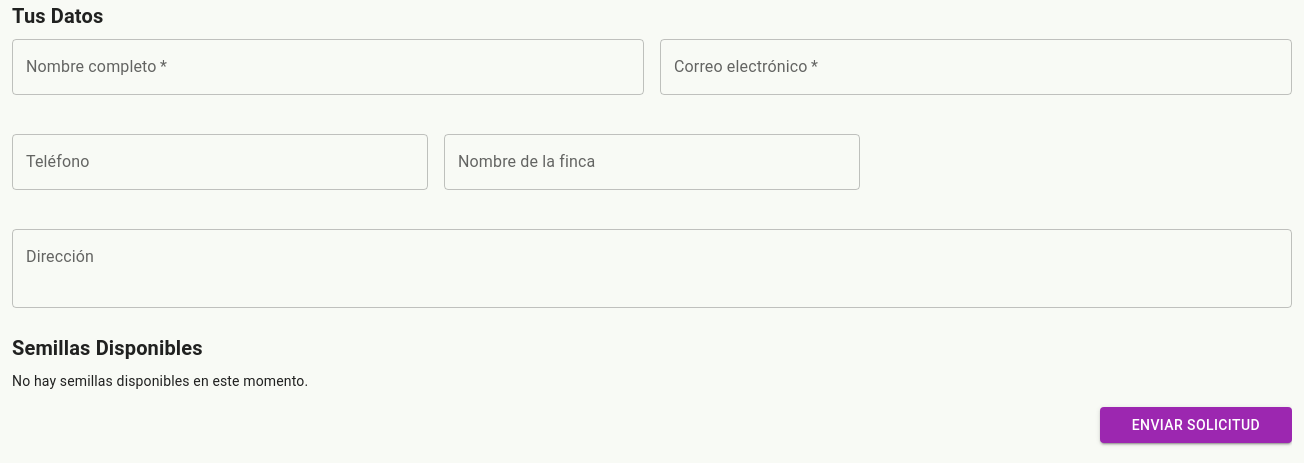
it: SolicitarForm — Línea Gráfica Pitahaya › inline validation › shows error on nombre on blur when too short
This screenshot has width=1304, height=463.
Click the field labelled "Nombre completo *" at (328, 67), box x1=12 y1=39 x2=644 y2=95
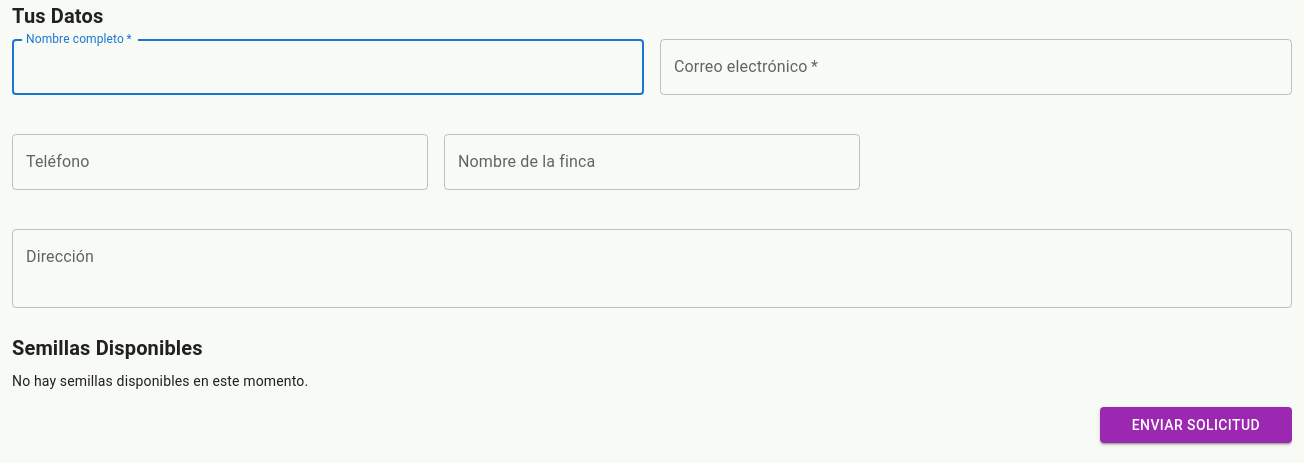
Type keys "A"
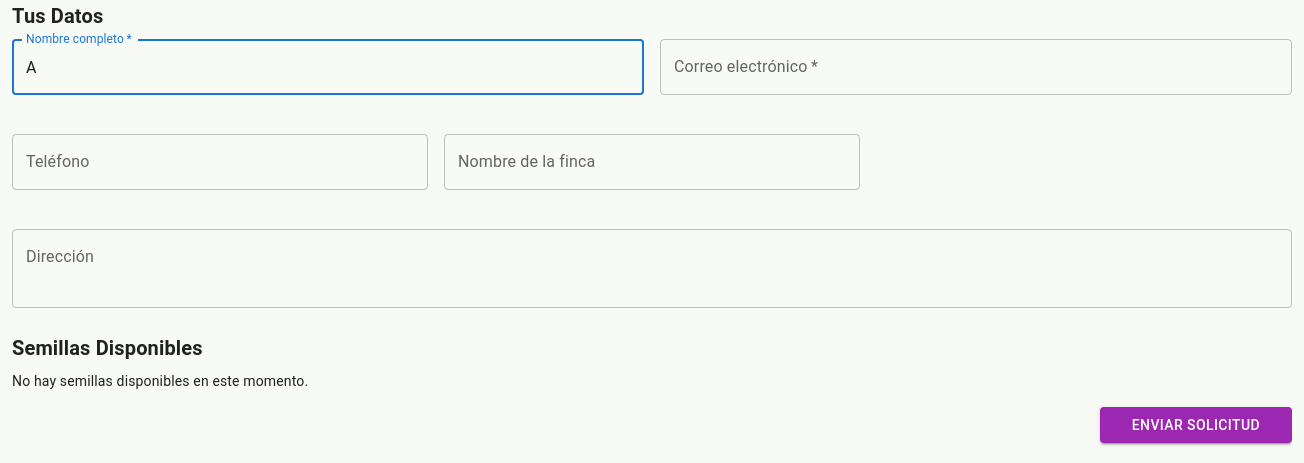
Press Tab
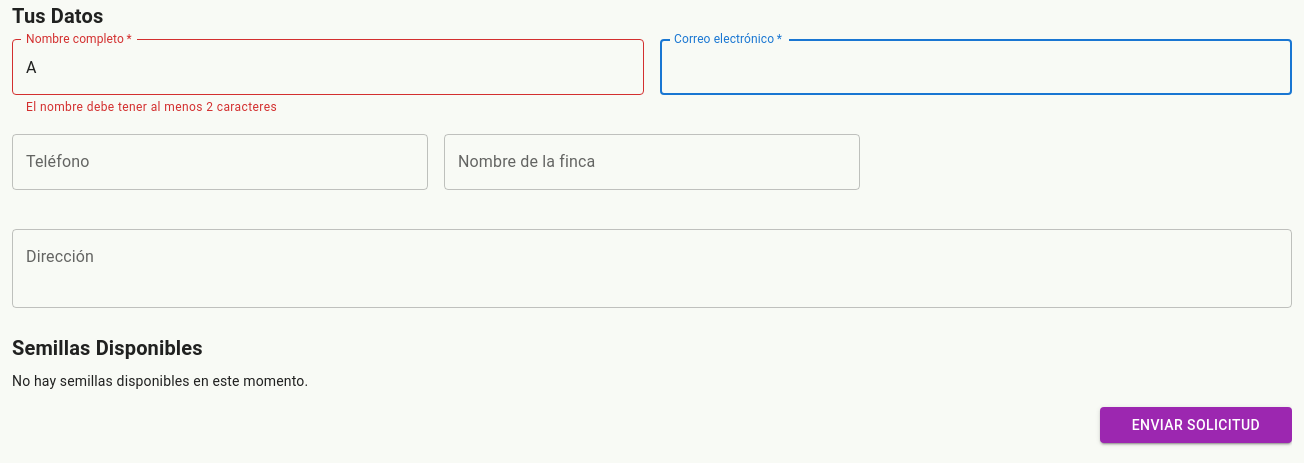
Result: the text "El nombre debe tener al menos 2 caracteres" is shown at x1=26 y1=100 x2=277 y2=114
